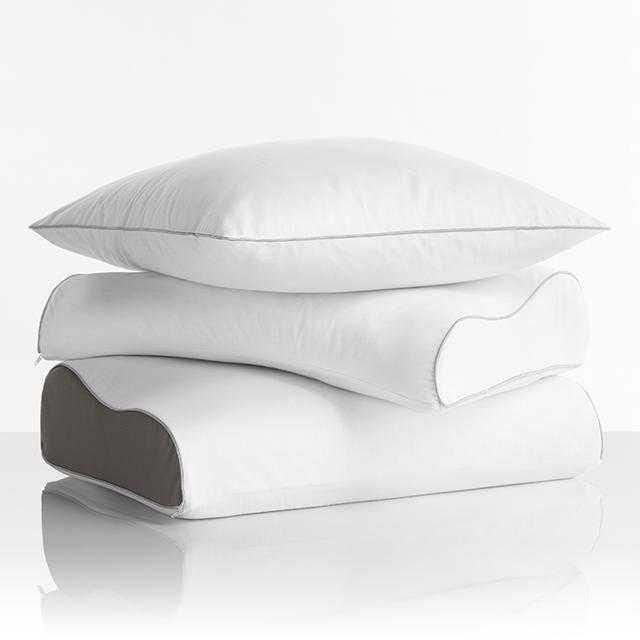pillow: (40, 352, 604, 520), (27, 134, 611, 294), (36, 266, 588, 412)
